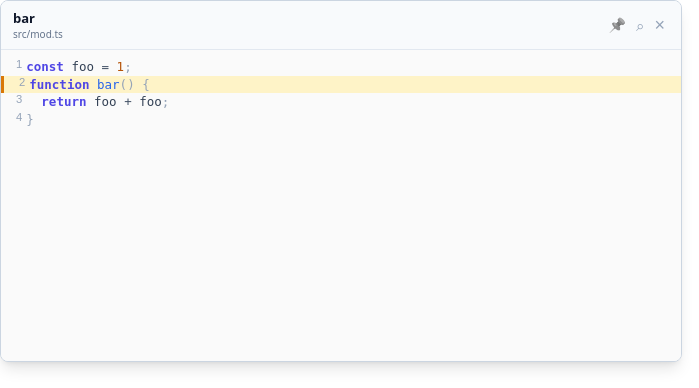
find-in-frame › navigates with Enter and wraps backward with Shift+Enter
Press f
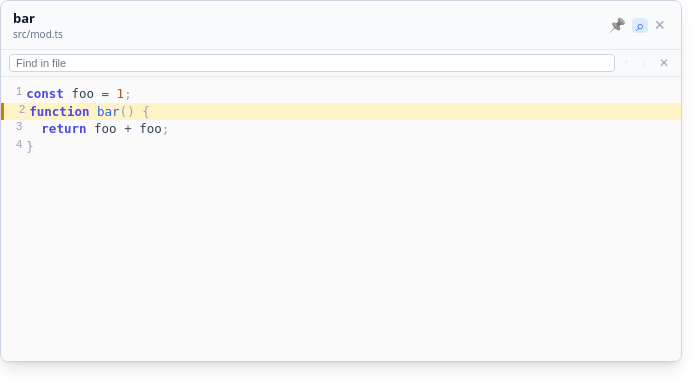
Type "foo" into the field with class "symbol-widget__find-input" at (312,63), box [9, 54, 615, 72]
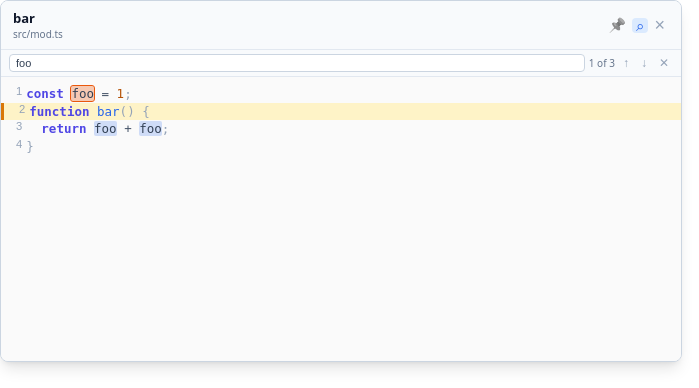
Press Enter in the field with class "symbol-widget__find-input", box [9, 54, 585, 72]
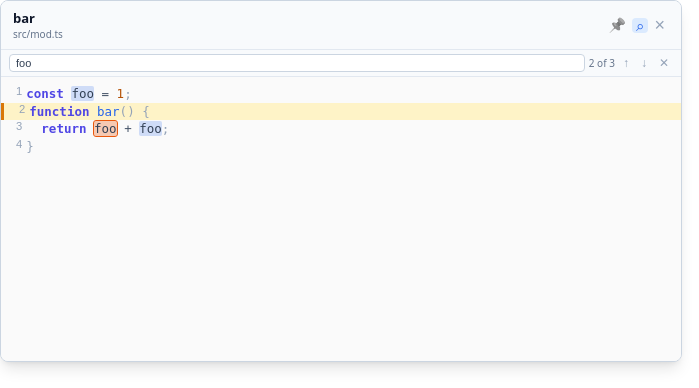
Result: the text with class "symbol-widget__find-counter" reads "2 of 3" at [589, 56, 615, 70]
Press Enter in the field with class "symbol-widget__find-input", box [9, 54, 585, 72]
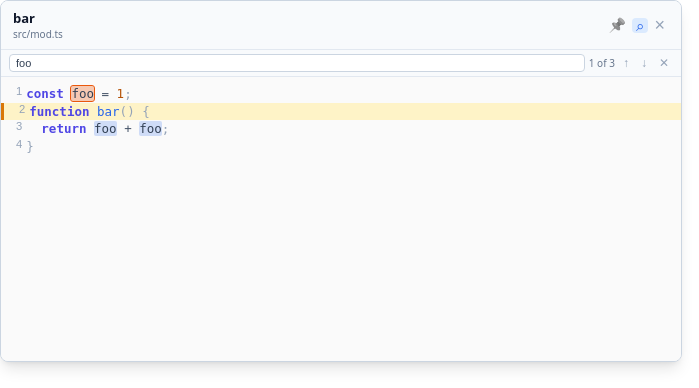
Press Enter in the field with class "symbol-widget__find-input", box [9, 54, 585, 72]
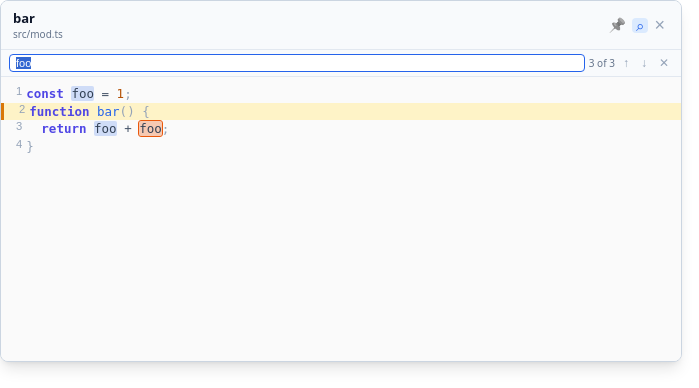
Result: the text with class "symbol-widget__find-counter" reads "3 of 3" at [589, 56, 615, 70]
